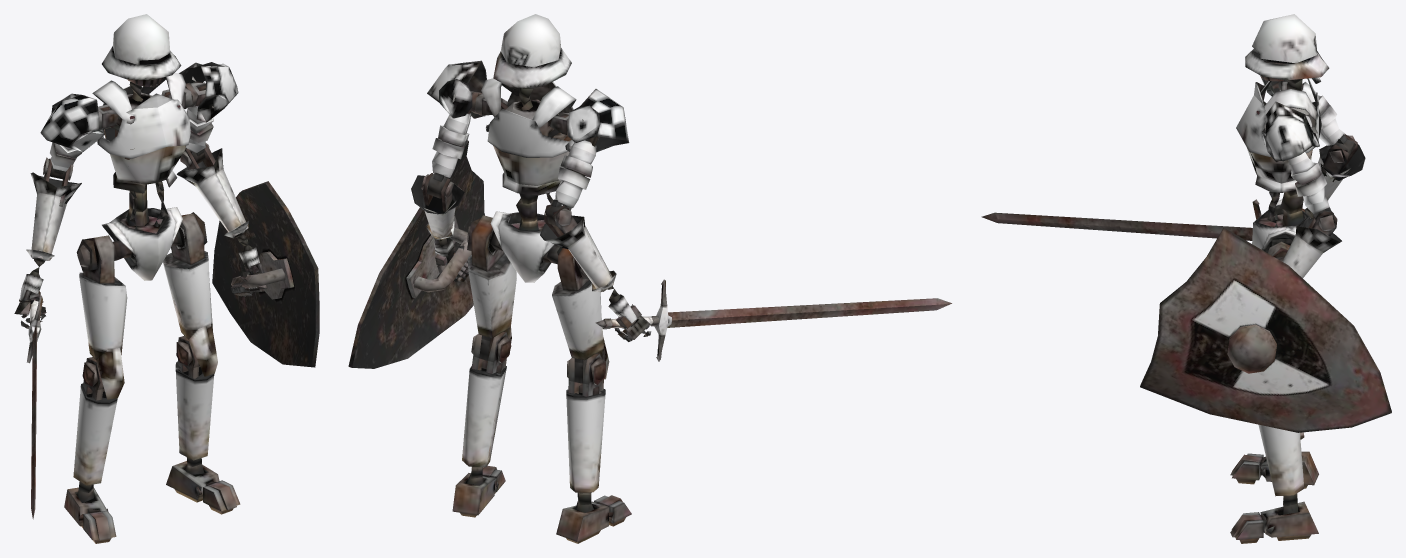
The model's file is npc-checkered-guard.glb.
The picture shows the model from 3 angles, left to right: view 1: azimuth 30°, elevation 25°; view 2: azimuth 150°, elevation 25°; view 3: azimuth 270°, elevation 25°; orthographic projection.
Visible parts, largest first — view 1: Object_11_baked, Object_15_baked, Object_13_baked; view 2: Object_11_baked, Object_15_baked, Object_13_baked; view 3: Object_15_baked, Object_11_baked, Object_13_baked.
Part boxes in pixels (<box>): Object_11_baked: <box>14,14,266,543</box>; Object_15_baked: <box>212,181,319,367</box>; Object_13_baked: <box>26,291,42,519</box>; Object_11_baked: <box>411,14,651,543</box>; Object_15_baked: <box>348,140,484,368</box>; Object_13_baked: <box>595,279,951,361</box>; Object_15_baked: <box>1140,228,1391,432</box>; Object_11_baked: <box>1230,14,1365,543</box>; Object_13_baked: <box>981,199,1261,240</box>.
Size of the model in its own units: 1.51 by 1.78 by 1.34.
3 materials, 3 textured.
